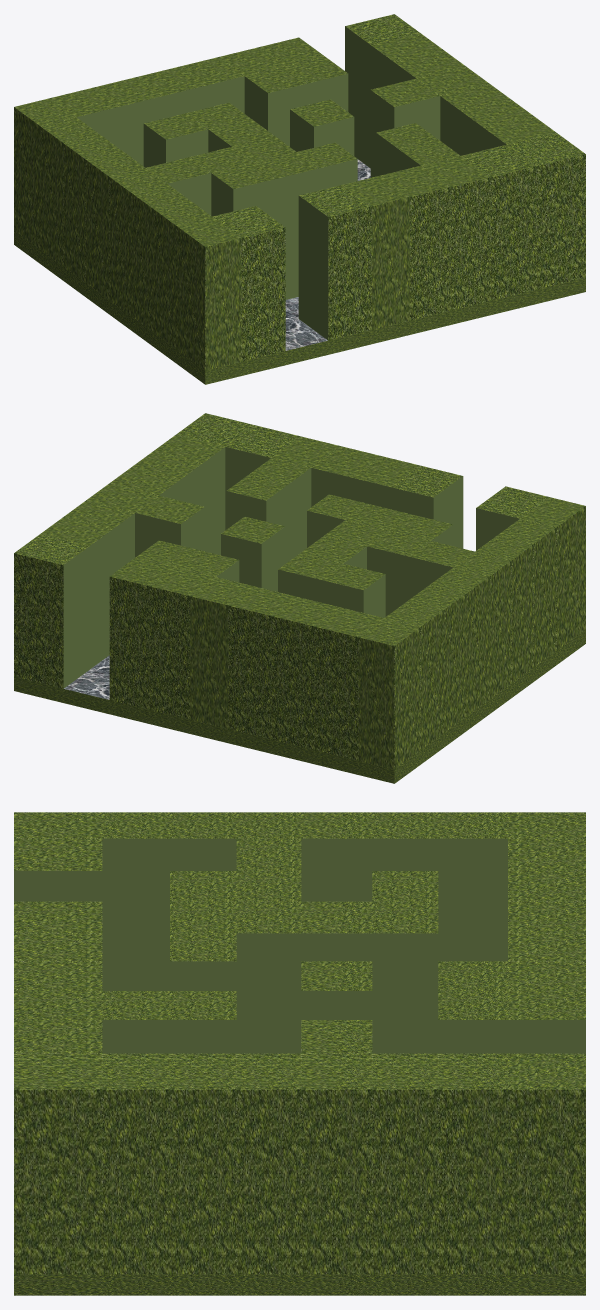
Rendered from fix bgt.fbx.
3 views of the same model, one above another, from view 1: azimuth 30°, elevation 25°; view 2: azimuth 150°, elevation 25°; view 3: azimuth 270°, elevation 25° (orthographic). The views are drawn at different scales.
Parts seen in each view (by area): view 1: Cube; view 2: Cube; view 3: Cube.
Boxes of the visible parts, bbox=[...] form: Cube: bbox=[14, 14, 585, 384]; Cube: bbox=[14, 413, 585, 783]; Cube: bbox=[14, 812, 585, 1295].
Bounding box in the file's own units: 1645 × 569 × 1433.
